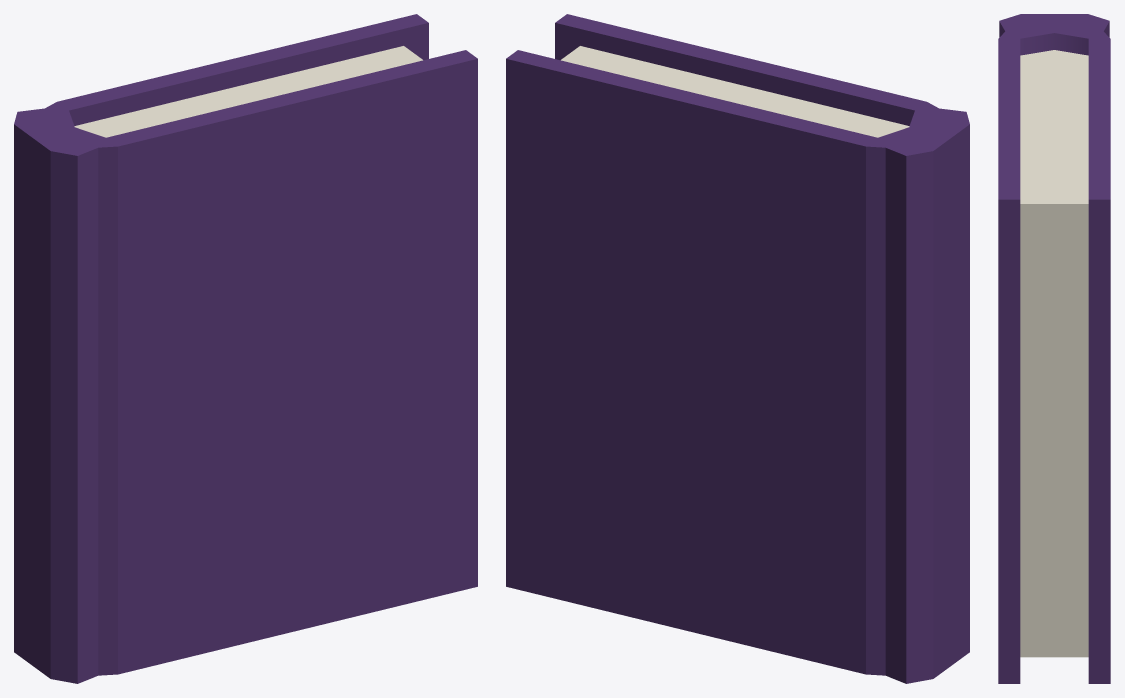
Rendered from book 3.fbx.
3 renders of one model, left to right at view 1: azimuth 30°, elevation 25°; view 2: azimuth 150°, elevation 25°; view 3: azimuth 270°, elevation 25°, orthographic. The views are drawn at different scales.
Parts seen in each view (by area): view 1: pCube277; view 2: pCube277; view 3: pCube277.
Part boxes in pixels (box(x1,y1,x2,y2)): pCube277: box(14, 14, 477, 683); pCube277: box(506, 14, 969, 683); pCube277: box(998, 14, 1110, 683).
Bounding box in the file's own units: 0.2237 × 0.2719 × 0.0571.
